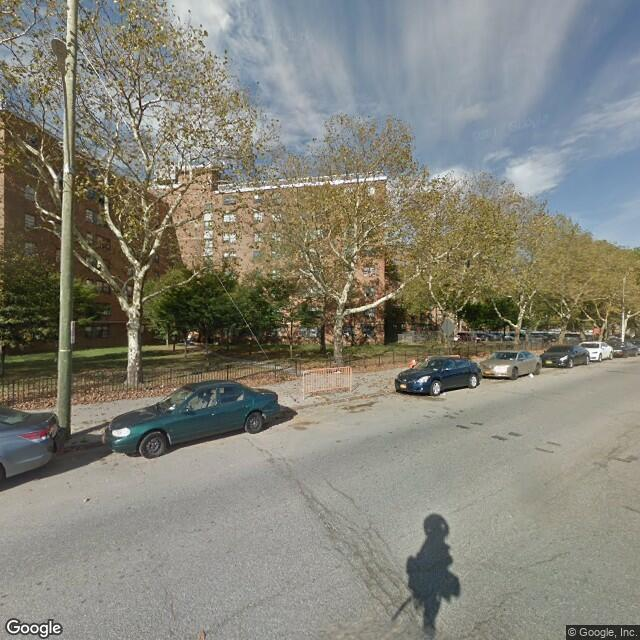litter: (81, 495, 91, 501), (526, 373, 535, 377)
